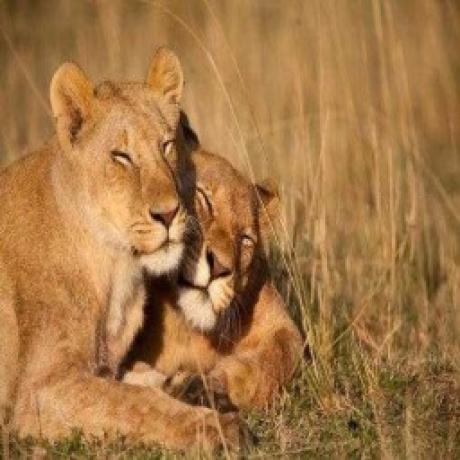Lion: (0, 44, 194, 459), (153, 107, 307, 408)
